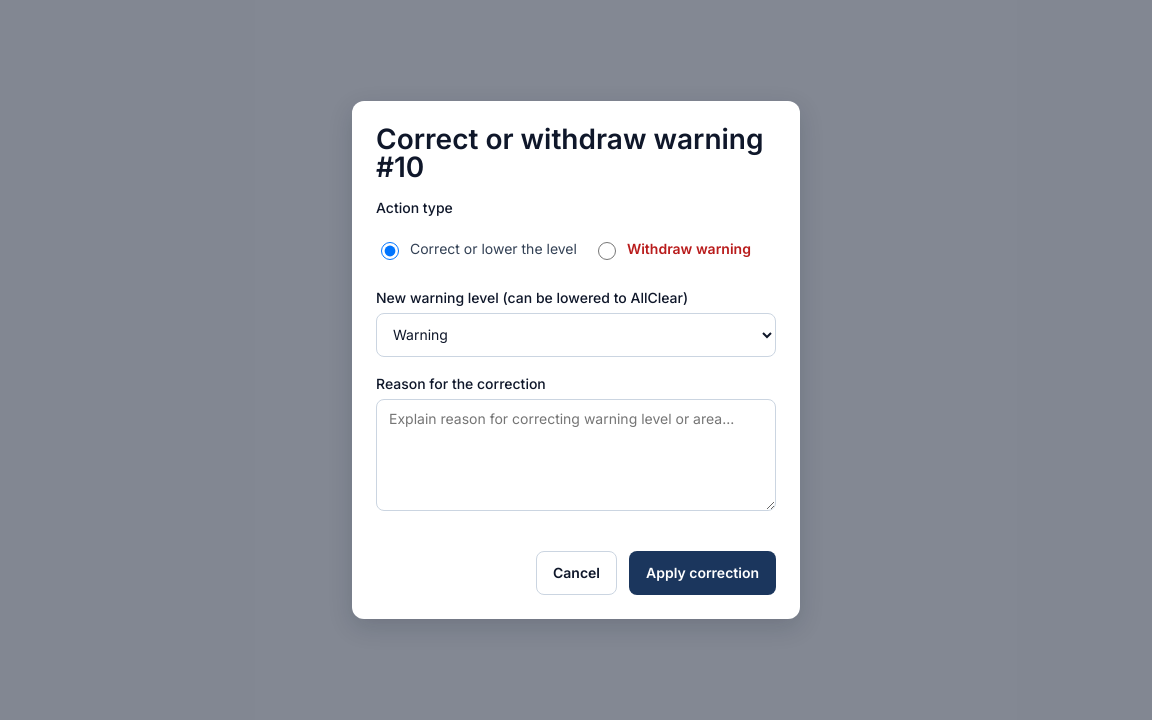
it: CorrectionModal (extension 14a) › should show the refusal when a Second Approver is needed, and stay open
What coordinates should you click on to do the following:
click the button "Apply correction"
I would click on:
 (702, 573)
Its box is x1=629 y1=551 x2=776 y2=595.
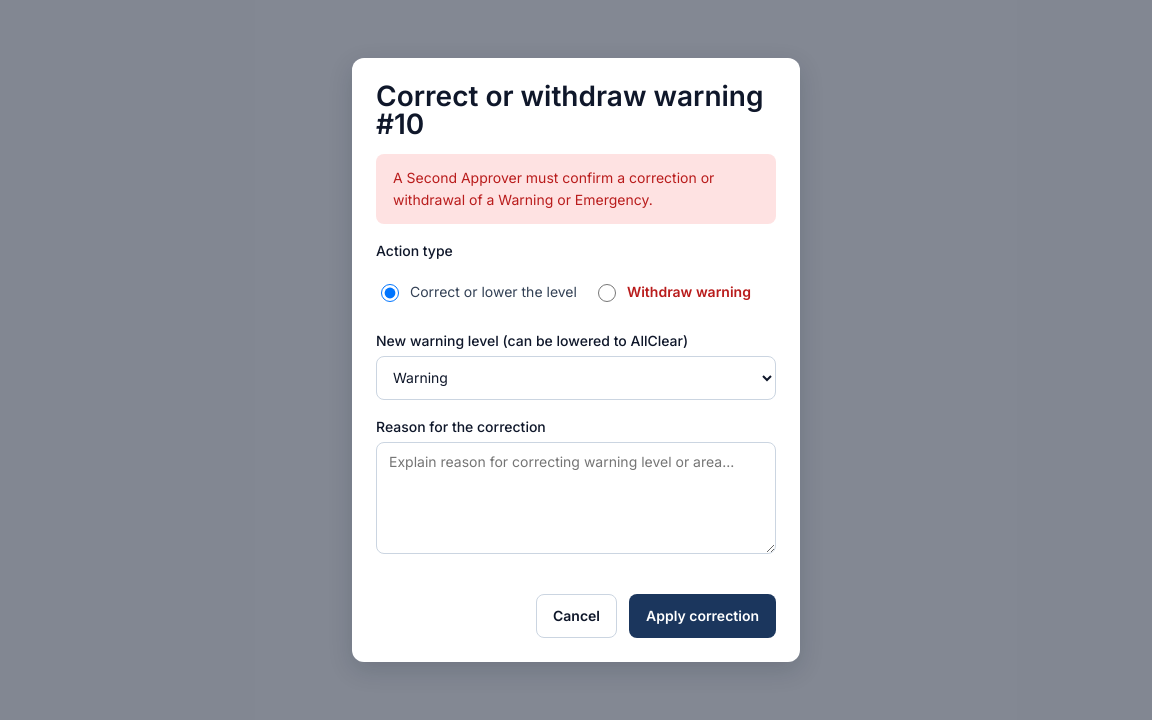
Check: the text "Second Approver must confirm" is shown, box x1=393 y1=169 x2=714 y2=208
